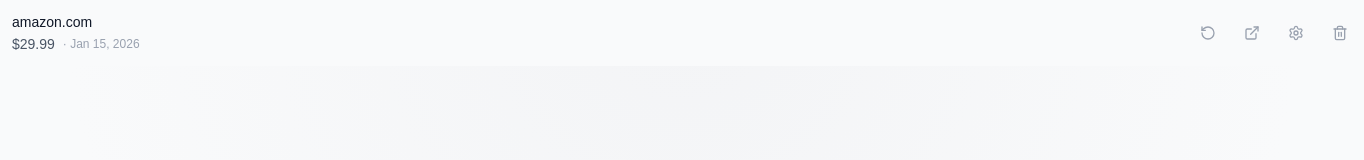
Test: ProductUrlCard › interactions › should disable retry button during cooldown
What coordinates should you click on to do the following:
click the button with test id "retry-scrape-button"
I would click on:
 (1208, 33)
Its box is [1186,11,1230,55].
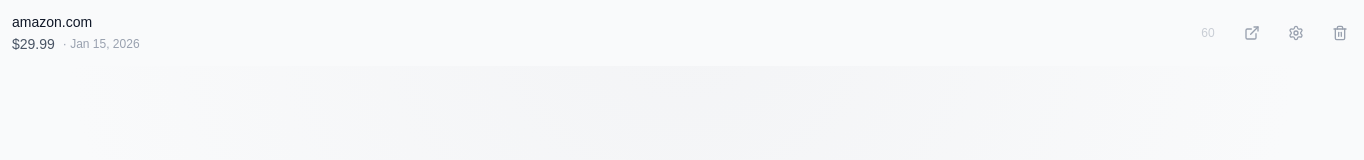
Check: the button with test id "retry-scrape-button" is disabled, box [1186,11,1230,55]
